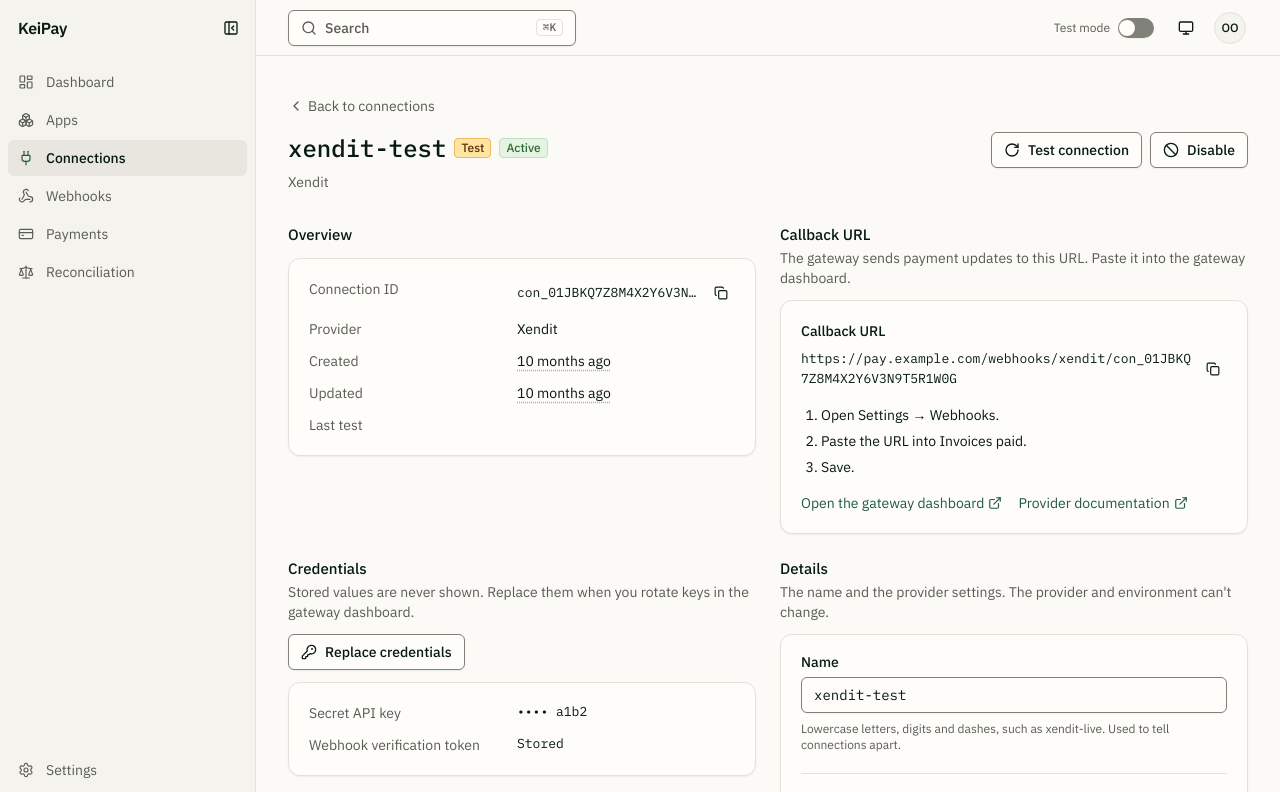
Test: Connection detail › puts a duplicate name error on the name field
This screenshot has width=1280, height=792.
Type "-2" into the field labelled "Name" at (1014, 695), box [801,677,1227,713]
(page scrolled)
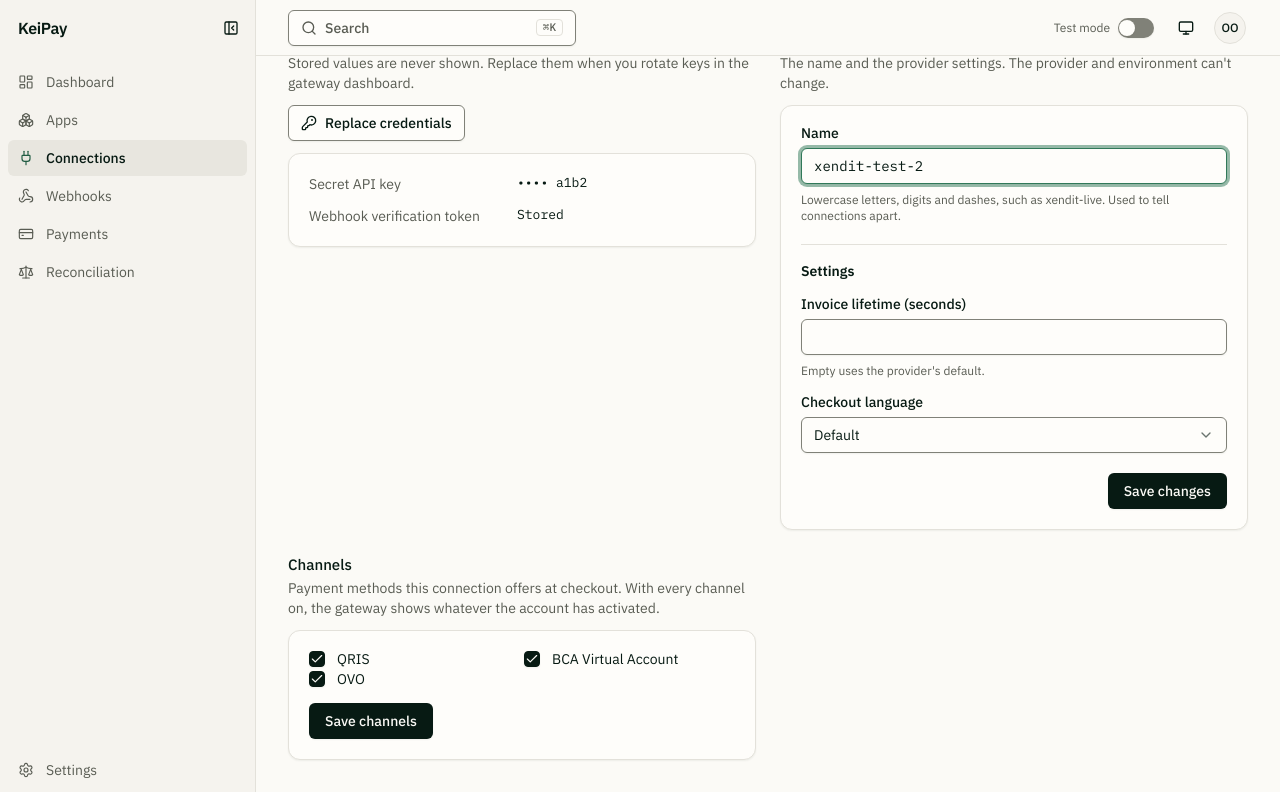
Click the button "Save changes" at (1167, 491), box [1108,473,1227,509]
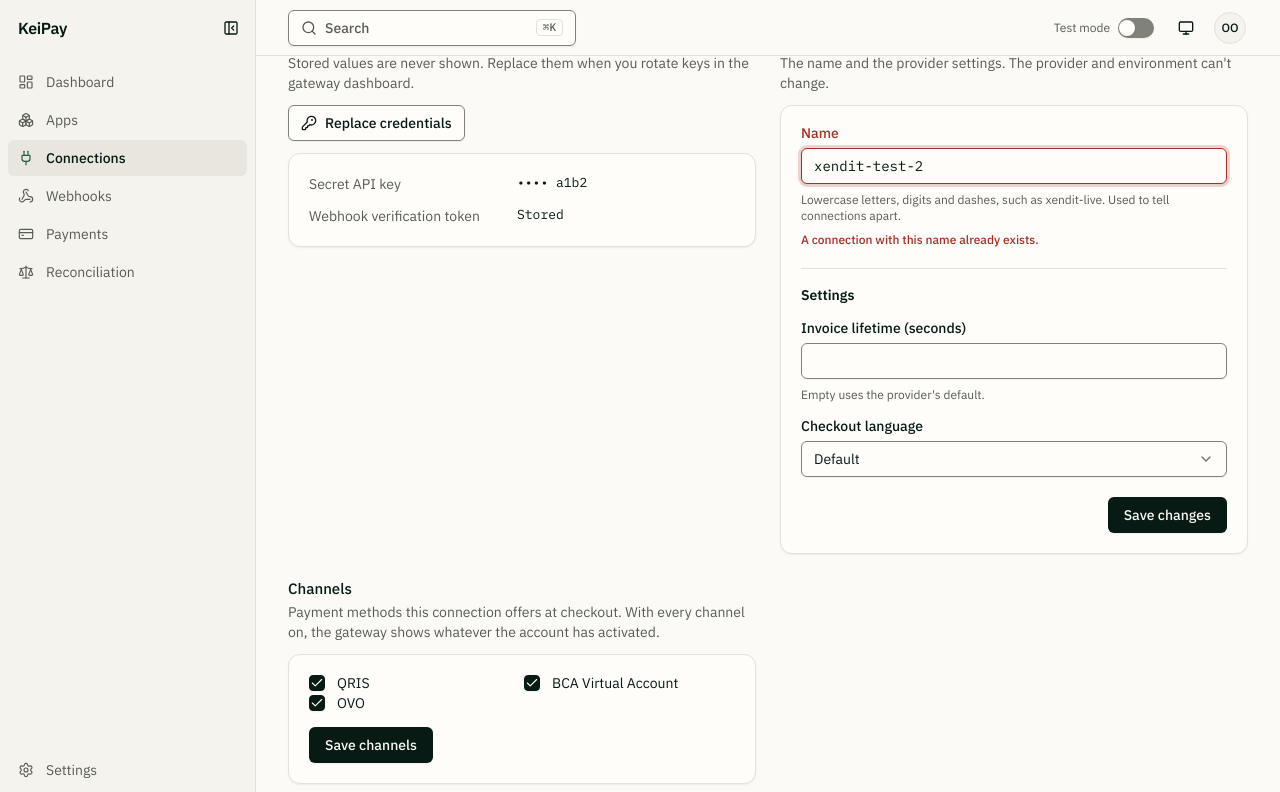
Expected: the text "A connection with this name already exists." is shown, [801,232,1039,247]
